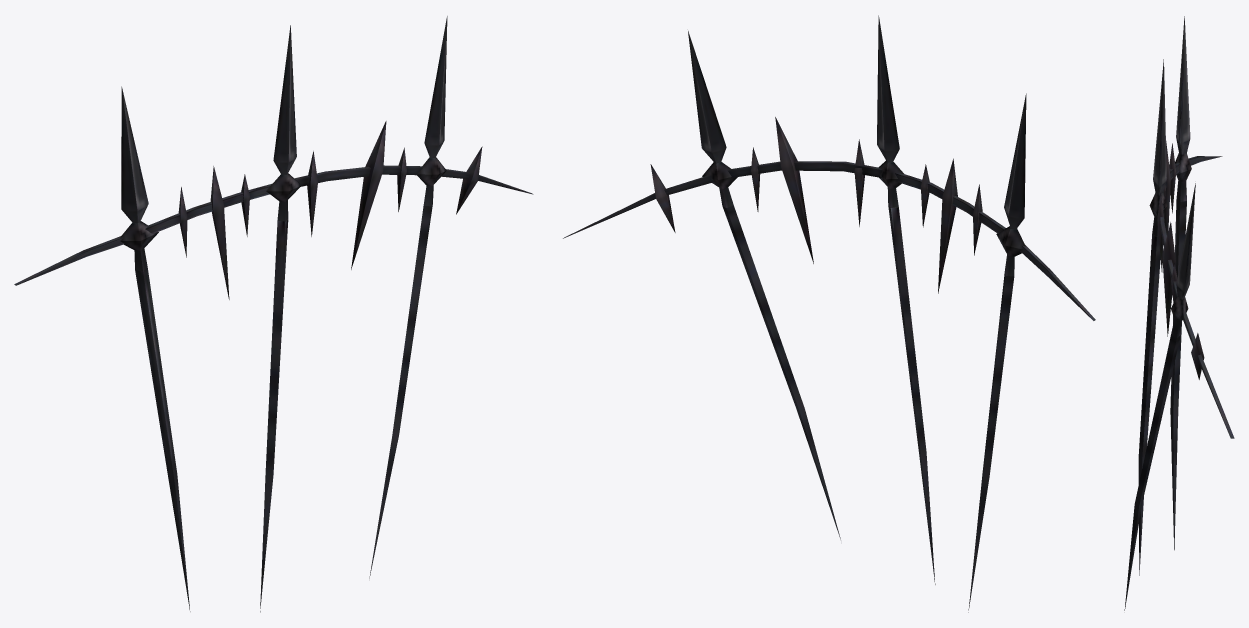
File: DN_tianqi_j.FBX
The picture shows the model from 3 angles, left to right: view 1: azimuth 30°, elevation 25°; view 2: azimuth 150°, elevation 25°; view 3: azimuth 270°, elevation 25°; orthographic projection. The views are drawn at different scales.
Parts seen in each view (by area): view 1: DN_tianqi_j; view 2: DN_tianqi_j; view 3: DN_tianqi_j.
Boxes of the visible parts, bbox=[...] form: DN_tianqi_j: bbox=[14, 16, 533, 612]; DN_tianqi_j: bbox=[563, 15, 1095, 612]; DN_tianqi_j: bbox=[1124, 16, 1234, 610].
Size of the model in its own units: 2289 by 2384 by 439.
